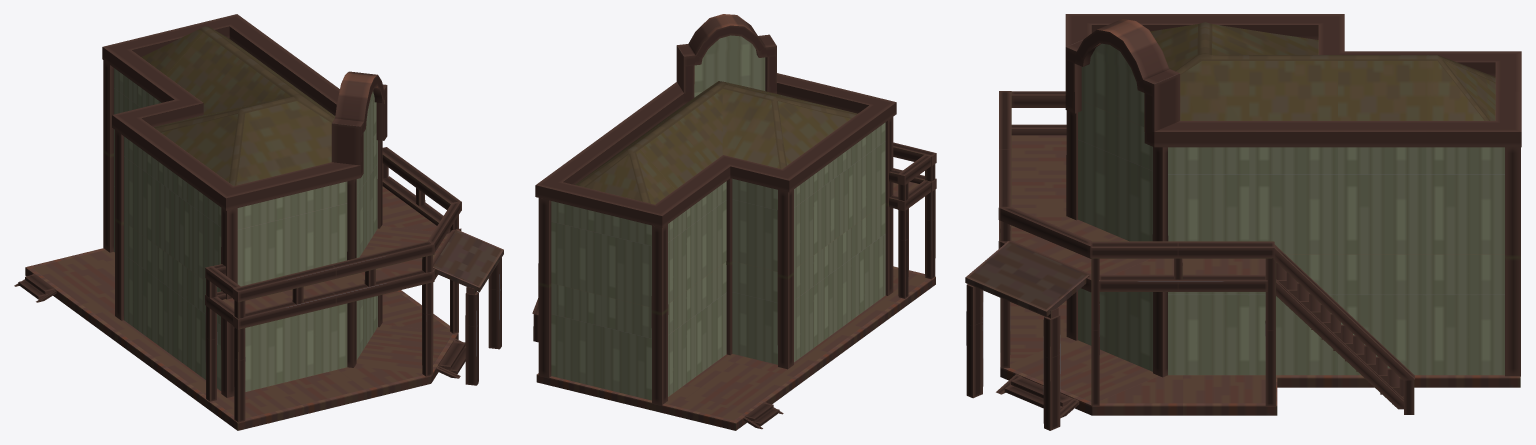
The model's file is house_v4_blank_ncl1_7.fbx.
The picture shows the model from 3 angles, left to right: view 1: azimuth 30°, elevation 25°; view 2: azimuth 150°, elevation 25°; view 3: azimuth 270°, elevation 25°; orthographic projection. The views are drawn at different scales.
Visible parts, largest first — view 1: house_v4_blank; view 2: house_v4_blank; view 3: house_v4_blank.
Boxes of the visible parts, x1=… form: house_v4_blank: x1=14, y1=14, x2=503, y2=430; house_v4_blank: x1=532, y1=14, x2=936, y2=430; house_v4_blank: x1=965, y1=14, x2=1521, y2=430.
Bounding box in the file's own units: 973 × 842 × 1257.
